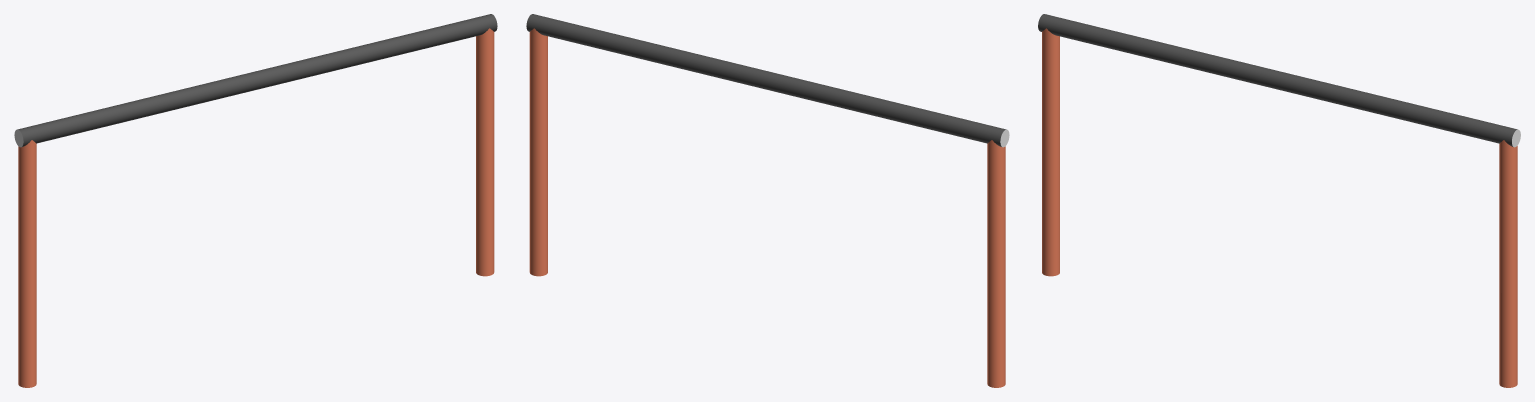
Rendered from gate.dae.
The picture shows the model from 3 angles, left to right: view 1: azimuth 30°, elevation 25°; view 2: azimuth 150°, elevation 25°; view 3: azimuth 330°, elevation 25°; orthographic projection.
Visible parts, largest first — view 1: SketchUp (×3); view 2: SketchUp (×3); view 3: SketchUp (×3).
Part boxes in pixels (x1,y1,x2,y2): SketchUp (×3): [17, 14, 497, 387]; SketchUp (×3): [526, 14, 1006, 387]; SketchUp (×3): [1038, 14, 1517, 387].
Bounding box in the file's own units: 118 × 3.94 × 61.02.
